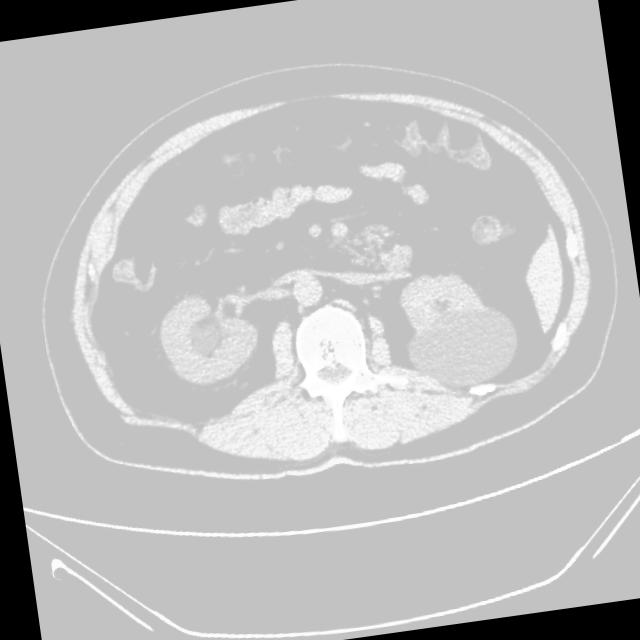cysts: (34, 47, 619, 505)
